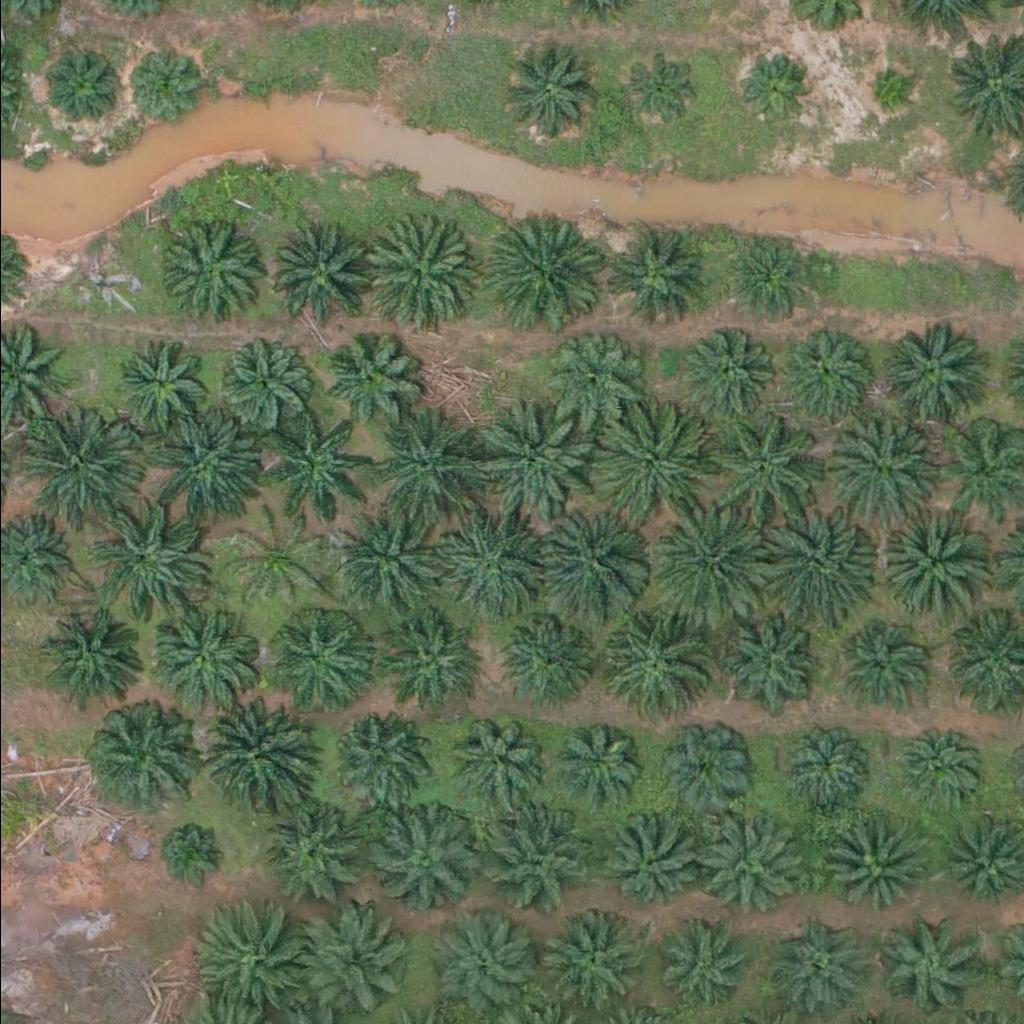Kelapa_Sawit: (20, 410, 134, 523), (489, 217, 603, 330), (425, 901, 538, 1014), (306, 901, 419, 1014), (192, 893, 305, 1006), (365, 798, 478, 911), (196, 697, 309, 810), (147, 411, 260, 524), (473, 401, 586, 514), (366, 213, 479, 326), (652, 510, 765, 623), (763, 510, 876, 623), (881, 509, 994, 622), (821, 407, 934, 520), (592, 409, 705, 522), (531, 902, 645, 1014), (145, 605, 259, 717), (434, 506, 548, 618), (321, 507, 435, 619), (256, 220, 370, 332), (690, 811, 804, 923), (537, 514, 651, 626), (482, 805, 595, 917), (80, 699, 193, 811), (91, 503, 204, 615), (260, 408, 373, 520), (375, 412, 488, 524), (587, 608, 700, 720), (707, 414, 820, 526), (258, 807, 359, 907), (326, 704, 427, 804), (230, 513, 331, 613), (212, 330, 313, 430), (116, 334, 217, 434), (160, 223, 261, 323), (496, 38, 597, 138), (643, 917, 744, 1017), (651, 717, 752, 817), (711, 609, 812, 709), (785, 323, 886, 423), (877, 323, 978, 423), (605, 225, 706, 325), (40, 606, 140, 706), (369, 610, 469, 710), (268, 603, 368, 703), (320, 327, 420, 427), (878, 915, 978, 1015), (754, 915, 854, 1015), (818, 820, 918, 920), (597, 813, 697, 913), (773, 718, 873, 818), (543, 330, 643, 430), (684, 326, 784, 426), (614, 47, 703, 135), (452, 715, 540, 803), (498, 612, 586, 700), (555, 718, 643, 806), (891, 725, 979, 813), (37, 43, 125, 130), (733, 45, 821, 132), (840, 617, 928, 704), (730, 232, 818, 319), (122, 46, 198, 121), (155, 817, 230, 892), (856, 64, 906, 114)
